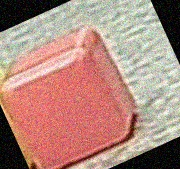orange_cube: (0, 30, 140, 169)
